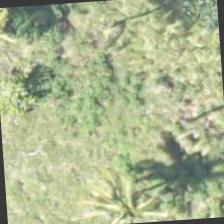Kelapa_Sawit: (71, 169, 166, 223)
